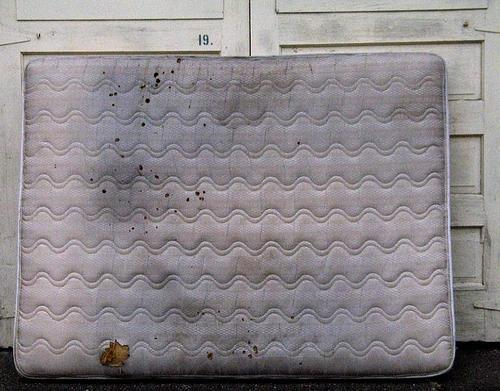Bed-Mattress: (5, 48, 464, 390)
